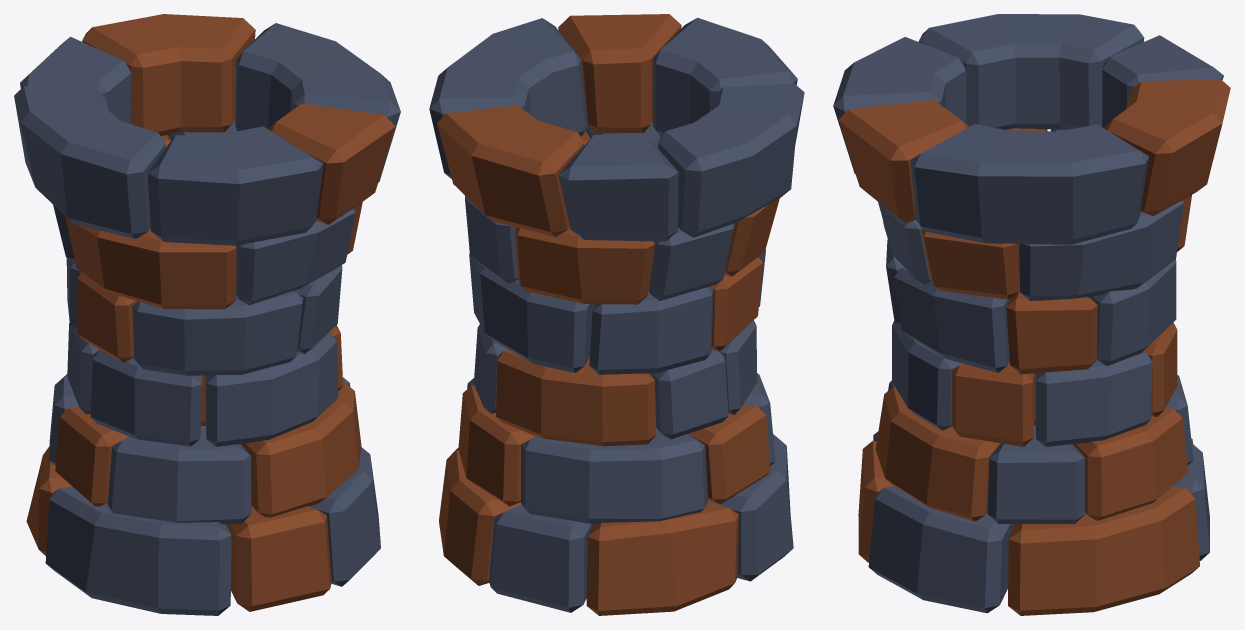
Rendered from Pilier.fbx.
3 views of the same model, side by side, from view 1: azimuth 30°, elevation 25°; view 2: azimuth 150°, elevation 25°; view 3: azimuth 270°, elevation 25° (orthographic).
Parts seen in each view (by area): view 1: Pilier_export; view 2: Pilier_export; view 3: Pilier_export.
Part boxes in pixels (bbox=[...]): Pilier_export: bbox=[14, 14, 400, 615]; Pilier_export: bbox=[429, 14, 804, 615]; Pilier_export: bbox=[833, 14, 1230, 615].
Size of the model in its own units: 242 by 328 by 258.
